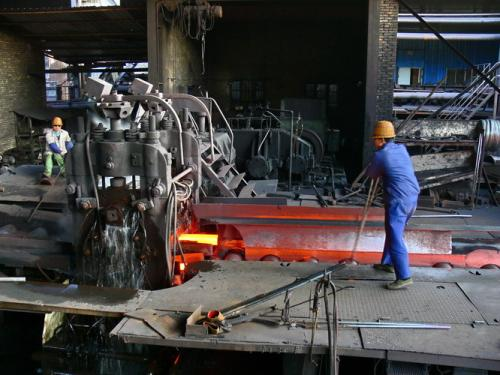boots: (386, 276, 413, 290), (373, 263, 395, 273), (40, 177, 51, 185)
hard-hat: (369, 119, 396, 138), (52, 116, 63, 126)
person: (365, 120, 421, 290), (39, 115, 74, 184)
ppe-suit: (366, 140, 421, 279)
